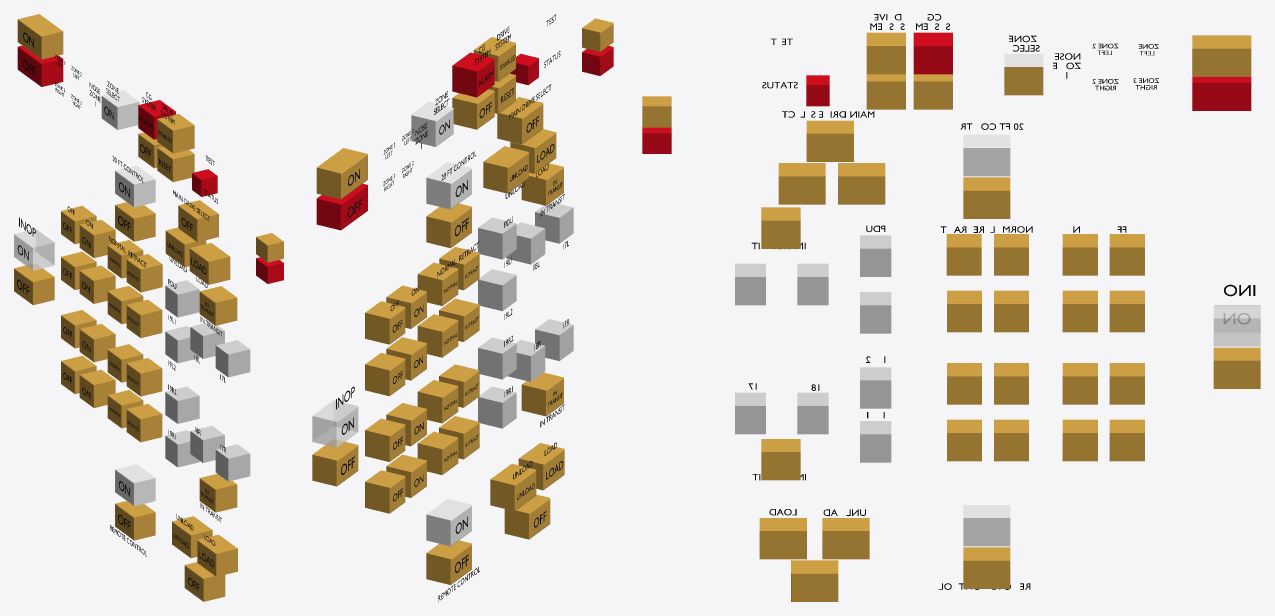
The model's file is top.fbx.
The picture shows the model from 3 angles, left to right: view 1: azimuth 30°, elevation 25°; view 2: azimuth 150°, elevation 25°; view 3: azimuth 270°, elevation 25°; orthographic projection. The views are drawn at different scales.
Parts seen in each view (by area): view 1: Off.002, Off.007, Off.030, Off.026, Off.003, On, Off.025, Off.027, Off.004, Off, Off.001, On.004 (+36 smaller); view 2: Off.002, Off.029, Off.025, Off.027, Off.006, Off.003, On, Off.026, Off, Off.004, Off.001, Off.016 (+36 smaller); view 3: Off.002, On, Off.001, Off, Off.004, Off.006, Off.007, Off.025, Off.028, Off.029, Off.003, Off.026 (+35 smaller).
Boxes of the visible parts, x1,y1,x2,y2 form: Off.002: [17, 14, 63, 59]; Off.007: [189, 243, 230, 284]; Off.030: [197, 534, 237, 576]; Off.026: [178, 200, 218, 242]; Off.003: [115, 464, 155, 506]; On: [115, 165, 155, 207]; Off.025: [14, 228, 54, 270]; Off.027: [14, 263, 54, 305]; Off.004: [115, 501, 155, 540]; Off: [115, 202, 155, 241]; Off.001: [17, 45, 63, 86]; On.004: [199, 286, 237, 325]; Off.002: [316, 148, 367, 199]; Off.029: [490, 464, 536, 511]; Off.025: [312, 400, 358, 447]; Off.027: [312, 439, 358, 486]; Off.006: [483, 146, 528, 193]; Off.003: [426, 499, 471, 546]; On: [426, 162, 471, 209]; Off.026: [497, 97, 543, 144]; Off: [426, 203, 471, 248]; Off.004: [426, 540, 471, 584]; Off.001: [316, 183, 367, 230]; Off.016: [452, 52, 494, 97]; Off.002: [1192, 35, 1251, 76]; On: [963, 134, 1010, 176]; Off.001: [1192, 77, 1251, 110]; Off: [963, 177, 1010, 218]; Off.004: [963, 547, 1010, 588]; Off.006: [838, 163, 885, 204]; Off.007: [778, 163, 825, 204]; Off.025: [1213, 305, 1260, 346]; Off.028: [791, 560, 838, 601]; Off.029: [822, 518, 869, 559]; Off.003: [963, 505, 1010, 546]; Off.026: [806, 120, 853, 161].
Size of the model in its own units: 29.78 by 544 by 528.
